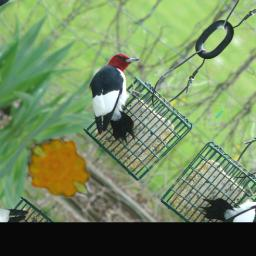Woodpecker: (66, 44, 179, 154)
